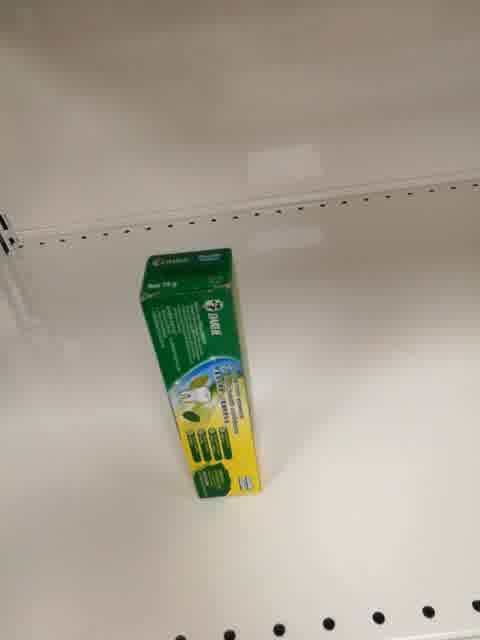toothpaste: (138, 248, 260, 498)
